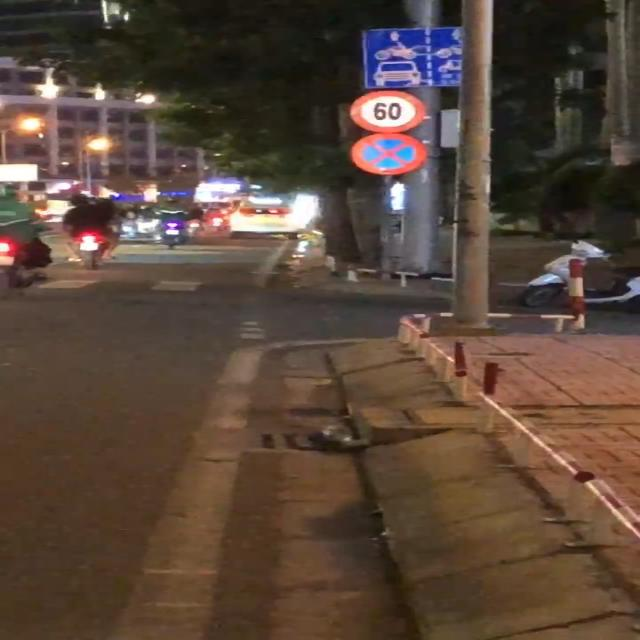Bien bao cam dung xe va do xe: (343, 132, 433, 179)
Bien bao toc do toi da cho phep: (349, 88, 429, 134)
